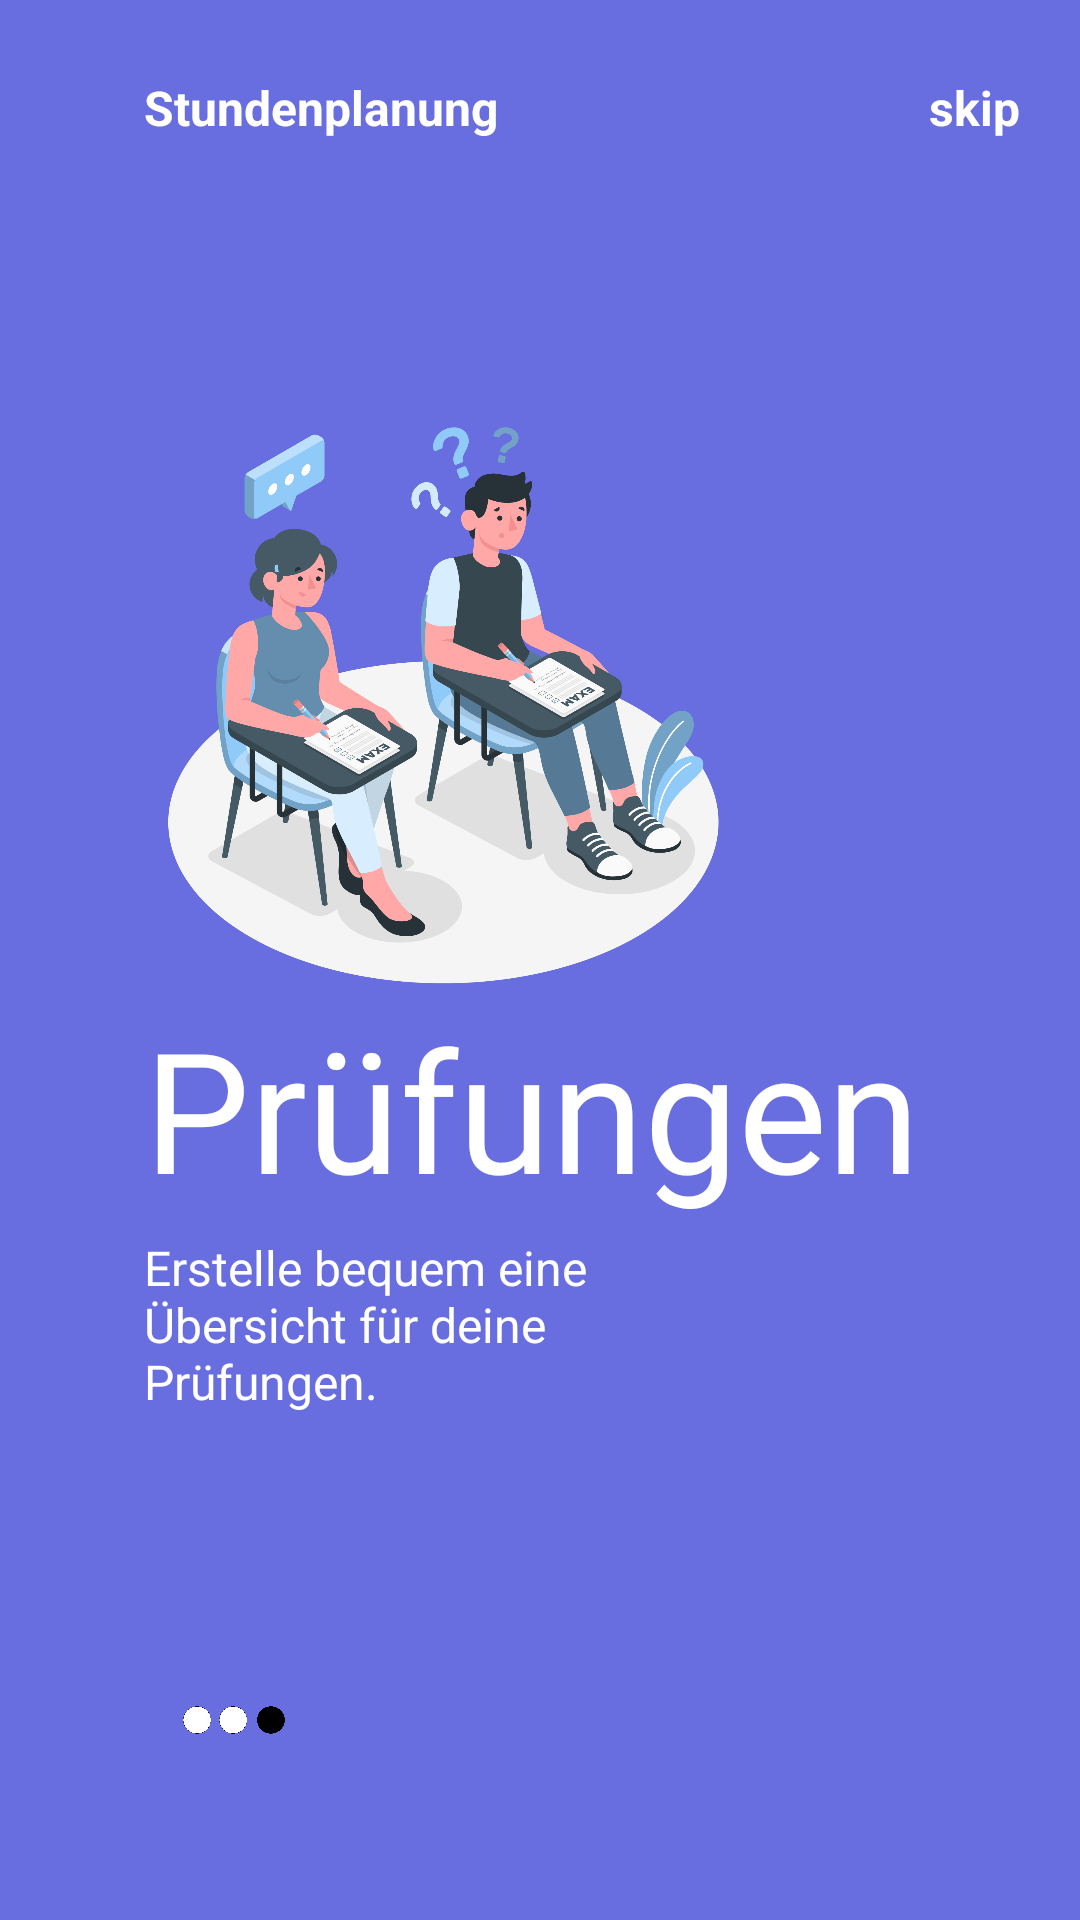

Screen size 1080x1920. Icon name, then its box in pixels as (x1, y1, x2, y2):
tab: (183, 1706, 285, 1734)
